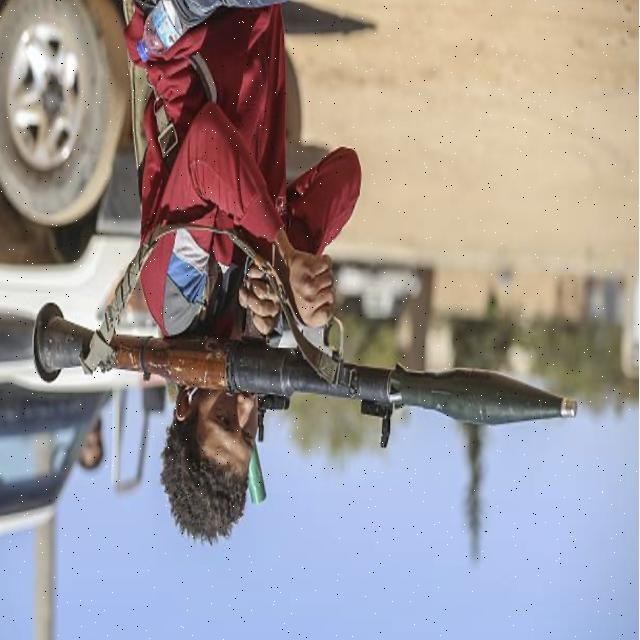bazooka: (27, 300, 586, 439)
